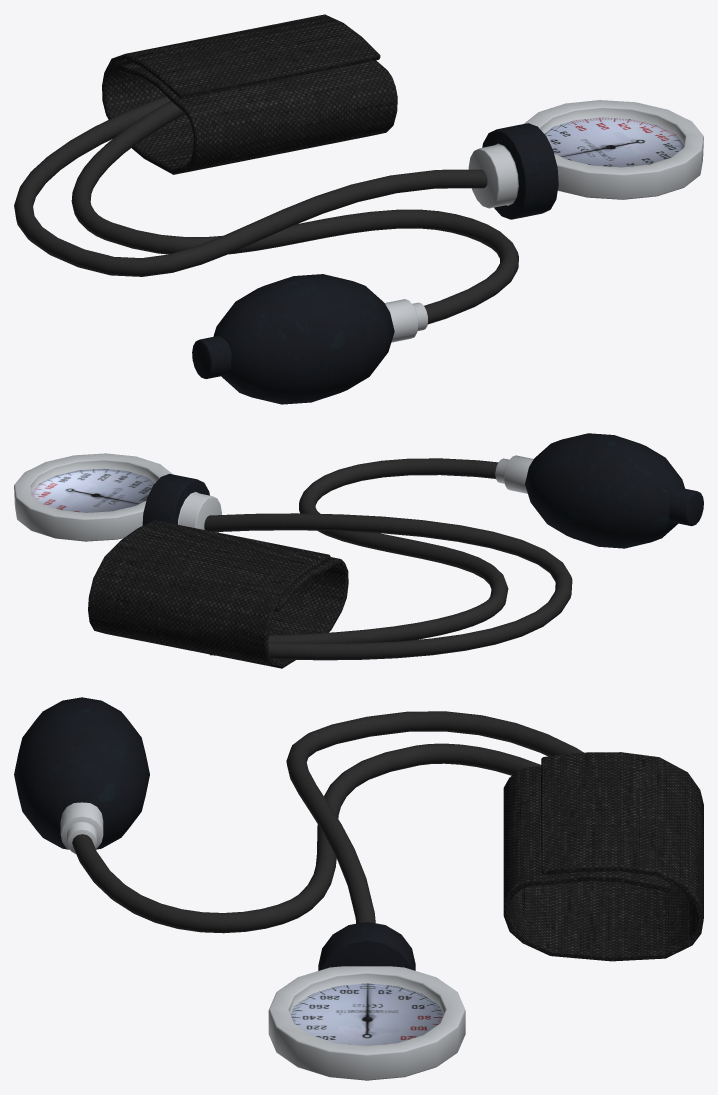
The model's file is sphygmomanometer_low_poly.glb.
The picture shows the model from 3 angles, top to bottom: view 1: azimuth 30°, elevation 25°; view 2: azimuth 150°, elevation 25°; view 3: azimuth 270°, elevation 25°; orthographic projection. The views are drawn at different scales.
Visible parts, largest first — view 1: sphygmomanometer_0; view 2: sphygmomanometer_0; view 3: sphygmomanometer_0.
Boxes of the visible parts, left/top/right/bottom form: sphygmomanometer_0: left=14, top=14, right=703, bottom=404; sphygmomanometer_0: left=14, top=433, right=703, bottom=668; sphygmomanometer_0: left=14, top=697, right=703, bottom=1080.
Bounding box in the file's own units: 2.28 × 0.439 × 2.05.
1 material, 1 textured.
